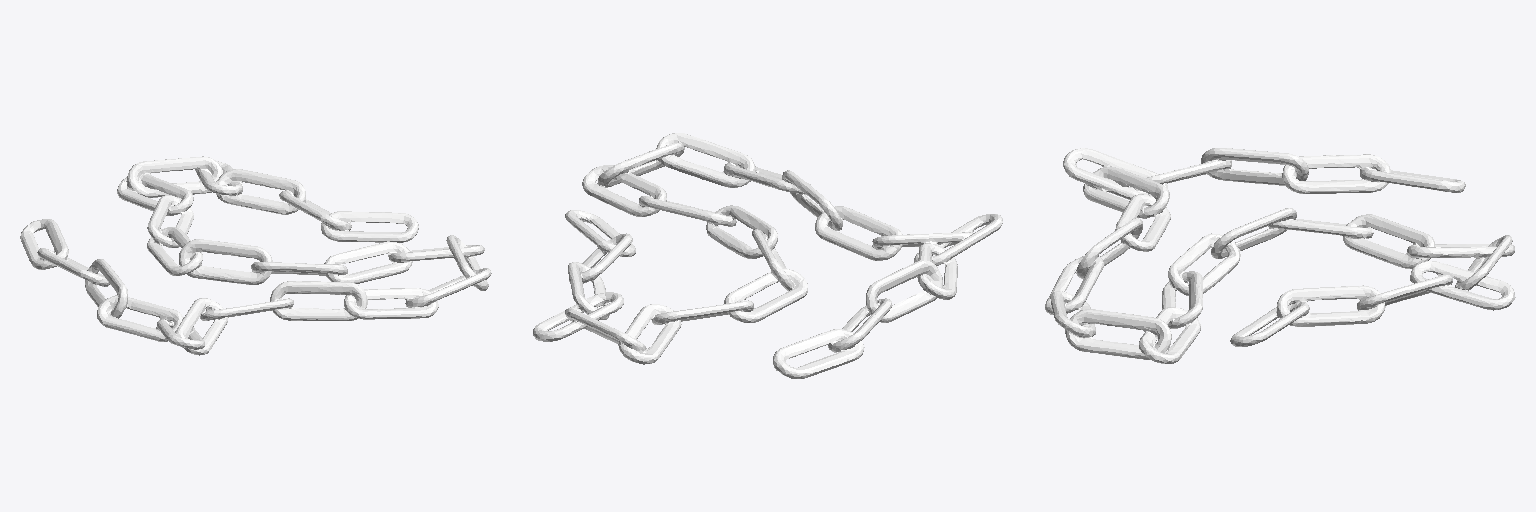
URDF robot description (chain):
<robot name="chain">
    <link name="base_link">
        <visual>
            <origin xyz="0.0 0.0 0.0" rpy="0.0 0.0 0.0" />
            <geometry>
                <mesh filename="chain/textured.obj" scale="1 1 1" />
            </geometry>
            <material name="texture">
                <color rgba="1.0 1.0 1.0 1.0" />
            </material>
        </visual>
        <collision>
            <origin xyz="0.0 0.0 0.0" rpy="0.0 0.0 0.0" />
            <geometry>
                <mesh filename="chain/textured_coacd_0.stl" scale="1 1 1" />
            </geometry>
        </collision>
        <collision>
            <origin xyz="0.0 0.0 0.0" rpy="0.0 0.0 0.0" />
            <geometry>
                <mesh filename="chain/textured_coacd_1.stl" scale="1 1 1" />
            </geometry>
        </collision>
        <collision>
            <origin xyz="0.0 0.0 0.0" rpy="0.0 0.0 0.0" />
            <geometry>
                <mesh filename="chain/textured_coacd_2.stl" scale="1 1 1" />
            </geometry>
        </collision>
        <collision>
            <origin xyz="0.0 0.0 0.0" rpy="0.0 0.0 0.0" />
            <geometry>
                <mesh filename="chain/textured_coacd_3.stl" scale="1 1 1" />
            </geometry>
        </collision>
        <collision>
            <origin xyz="0.0 0.0 0.0" rpy="0.0 0.0 0.0" />
            <geometry>
                <mesh filename="chain/textured_coacd_4.stl" scale="1 1 1" />
            </geometry>
        </collision>
        <inertial>
            <mass value="0.1" />
            <inertia ixx="1e-3" ixy="0.0" ixz="0.0" iyy="1e-3" iyz="0.0" izz="1e-3" />
        </inertial>
    </link>
</robot>

--- Facts derived from the render (not from the file) ---
3 views of the same robot in one strip: view 1: azimuth 30°, elevation 25°; view 2: azimuth 150°, elevation 25°; view 3: azimuth 270°, elevation 25° (orthographic).
Model chain with 1 links and 0 joints (none), rooted at base_link, posed every joint at zero.
Visible links, largest first — view 1: base_link; view 2: base_link; view 3: base_link.
Boxes of the visible links, x1=… form: base_link: x1=20, y1=156, x2=491, y2=355; base_link: x1=533, y1=133, x2=1002, y2=378; base_link: x1=1045, y1=148, x2=1515, y2=363.
Size in the robot's own frame: 0.2725 by 0.2747 by 0.0245 metres.
Meshes: 1 distinct files referenced, 1 mesh visuals loaded (1 OBJ).